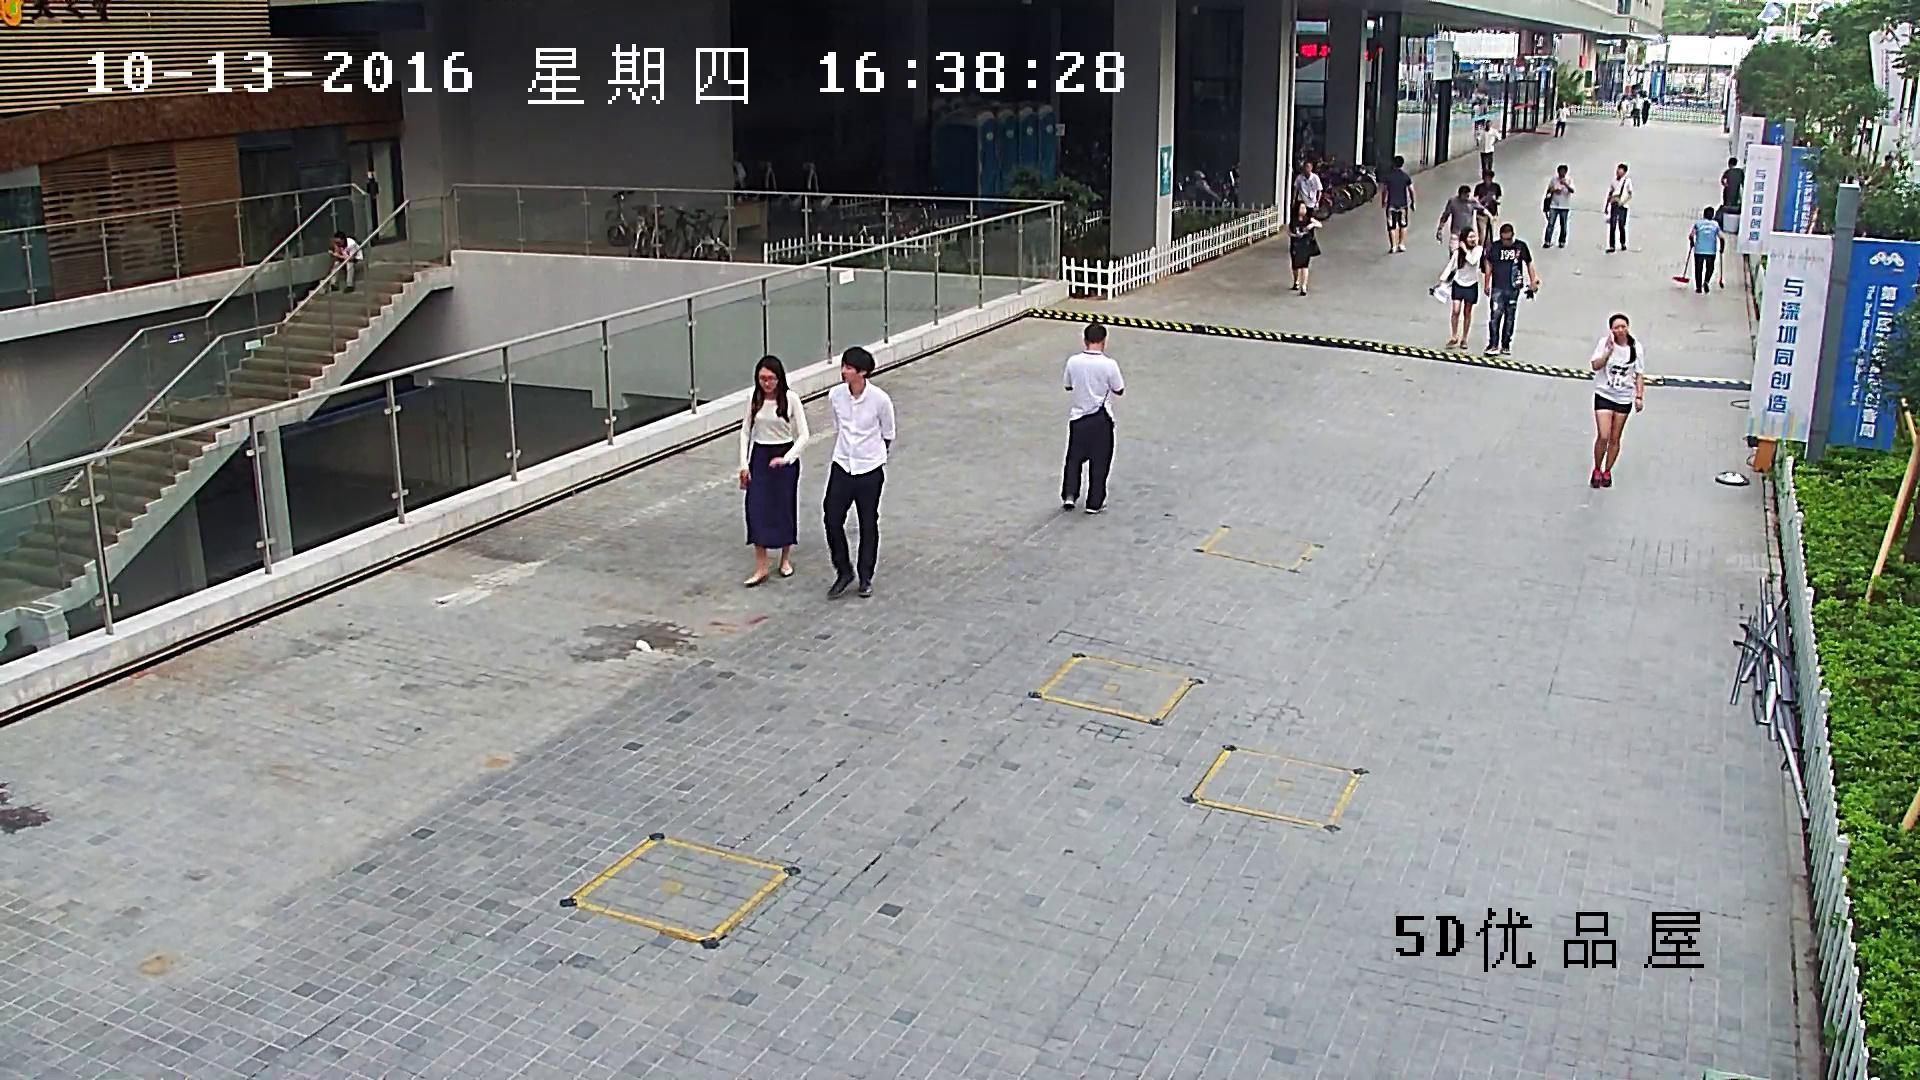person: (822, 346, 896, 595), (738, 356, 809, 585), (1060, 323, 1124, 514), (1591, 313, 1644, 486), (1482, 223, 1539, 355), (1428, 226, 1483, 348), (1671, 207, 1724, 293), (1435, 184, 1493, 259), (1287, 200, 1322, 296), (1381, 155, 1415, 253), (1688, 207, 1724, 293), (1542, 164, 1573, 246), (1604, 163, 1632, 252), (325, 231, 363, 292), (1473, 169, 1502, 245), (1292, 162, 1323, 214), (1476, 120, 1500, 169), (1721, 156, 1744, 204), (1471, 98, 1485, 146), (1552, 101, 1568, 138), (1617, 96, 1628, 127), (1631, 95, 1641, 127), (1641, 99, 1649, 124)
